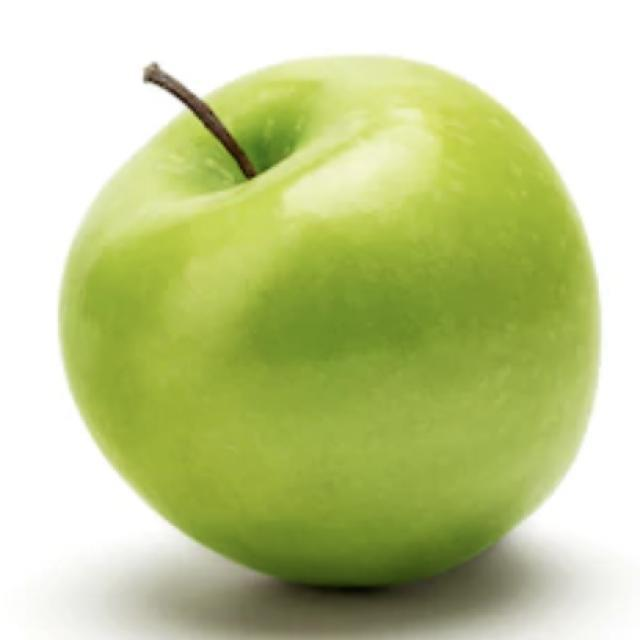Fresh Apple: (61, 48, 602, 602)
